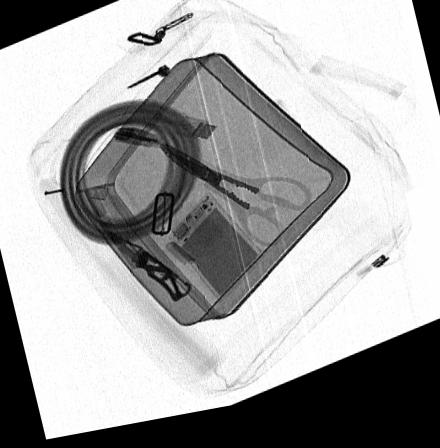Knife: (96, 229, 193, 309)
Powerbank: (166, 200, 266, 311)
Scissors: (156, 149, 308, 257)
